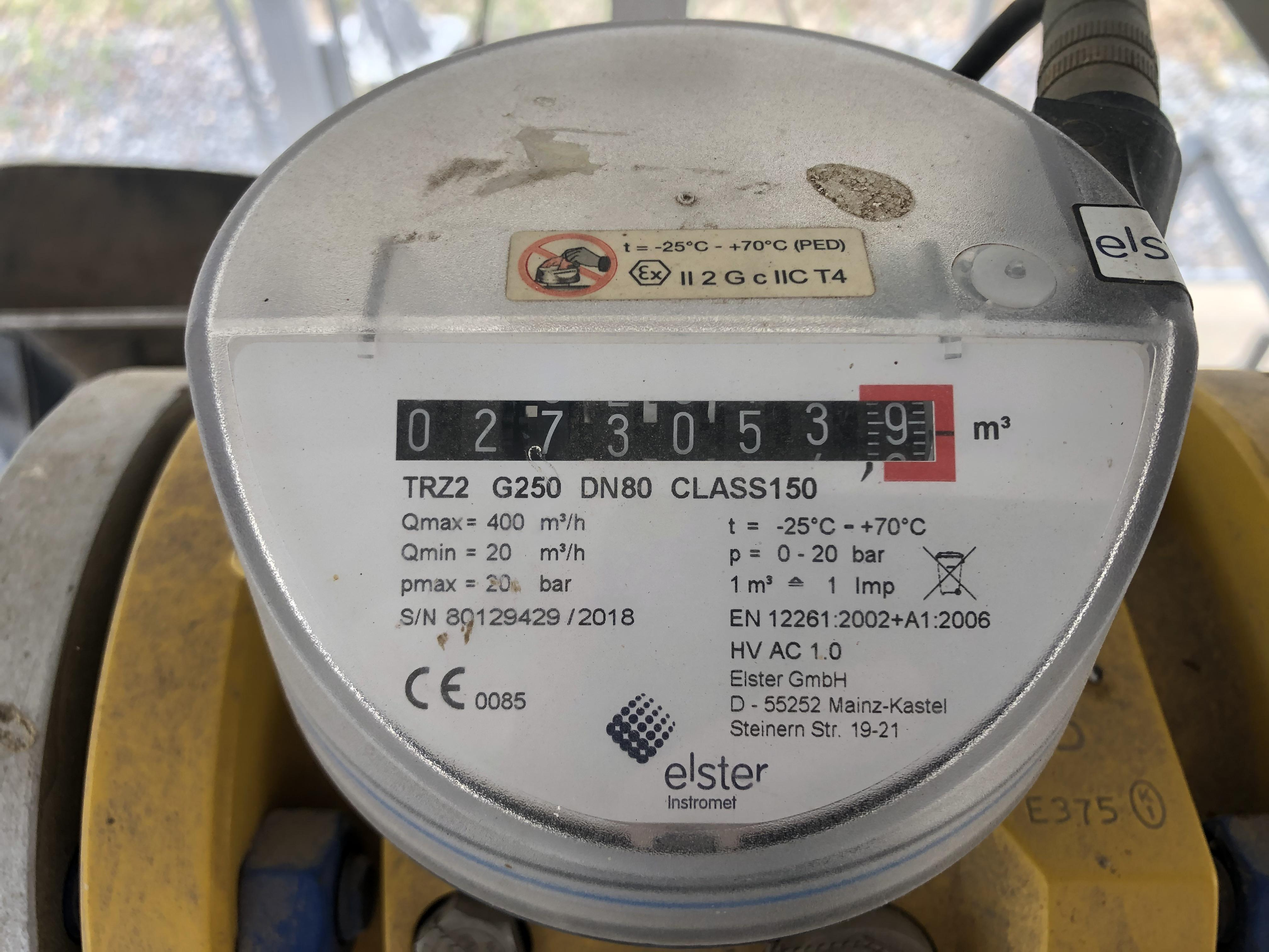analog_dial: (392, 361, 965, 487)
